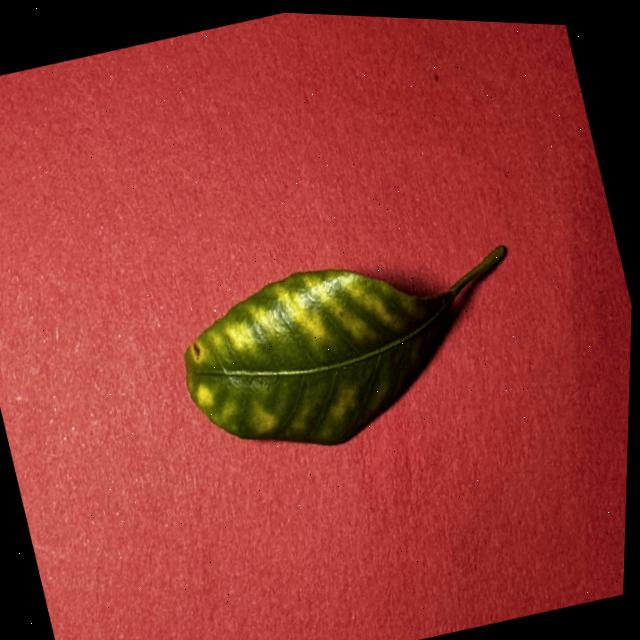greening: (184, 245, 504, 443)
